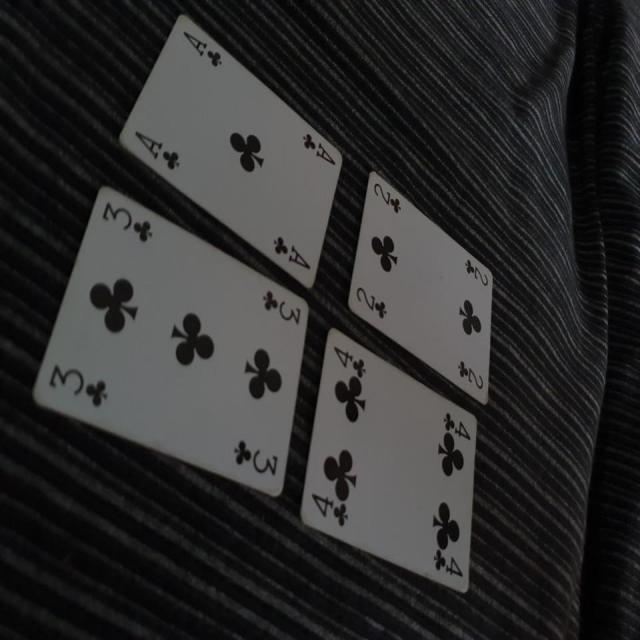2 Trefoils: (348, 167, 497, 408)
3 Trefoils: (31, 183, 310, 496)
4 Trefoils: (298, 328, 480, 596)
A Trefoils: (116, 9, 345, 288)
